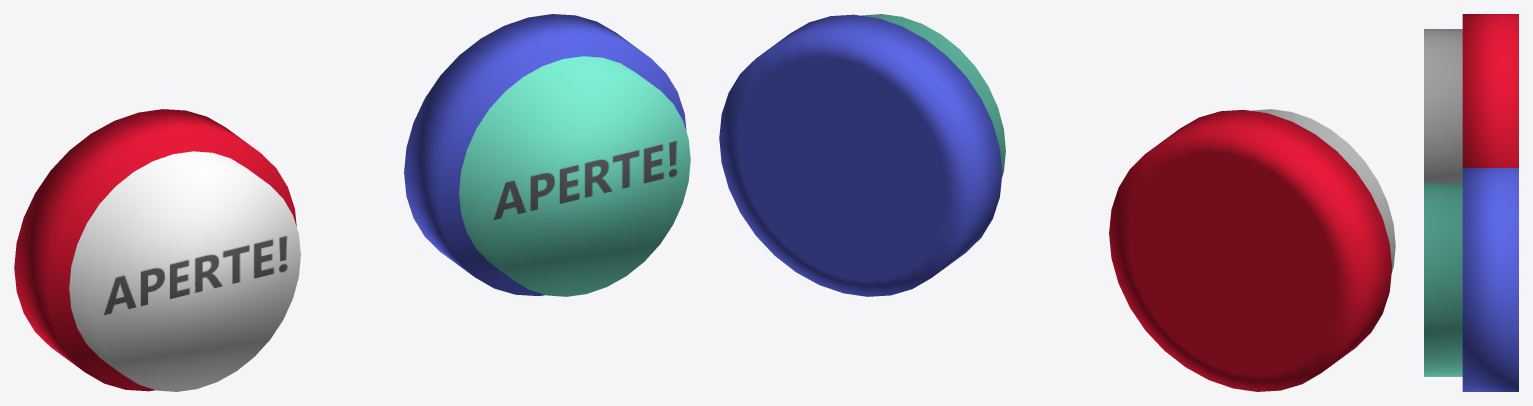
The model's file is Botão_Vermelho.glb.
3 renders of one model, left to right at view 1: azimuth 30°, elevation 25°; view 2: azimuth 150°, elevation 25°; view 3: azimuth 270°, elevation 25°, orthographic. The views are drawn at different scales.
Visible parts, largest first — view 1: Cylinder, Cylinder.001; view 2: Cylinder.001, Cylinder; view 3: Cylinder.001, Cylinder.
Part boxes in pixels (left/top/right/bottom): Cylinder: left=14, top=109, right=300, bottom=391; Cylinder.001: left=404, top=14, right=690, bottom=296; Cylinder.001: left=719, top=14, right=1005, bottom=296; Cylinder: left=1109, top=109, right=1395, bottom=391; Cylinder.001: left=1424, top=168, right=1518, bottom=391; Cylinder: left=1424, top=14, right=1518, bottom=182.
Size of the model in its own units: 3.52 by 1.32 by 0.5605.
4 materials, 2 textured.
